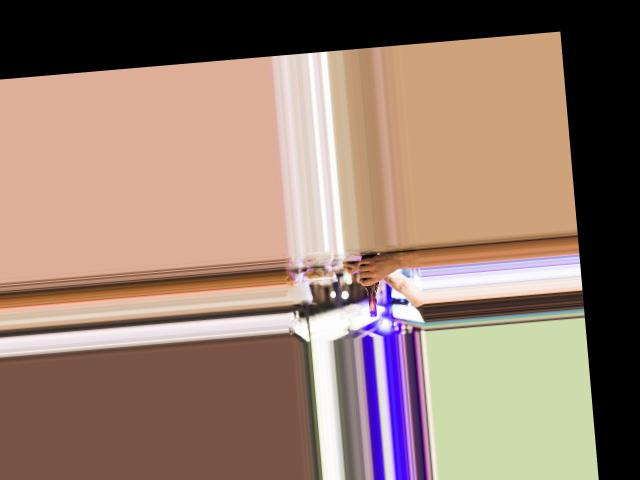beer: (361, 254, 381, 317)
